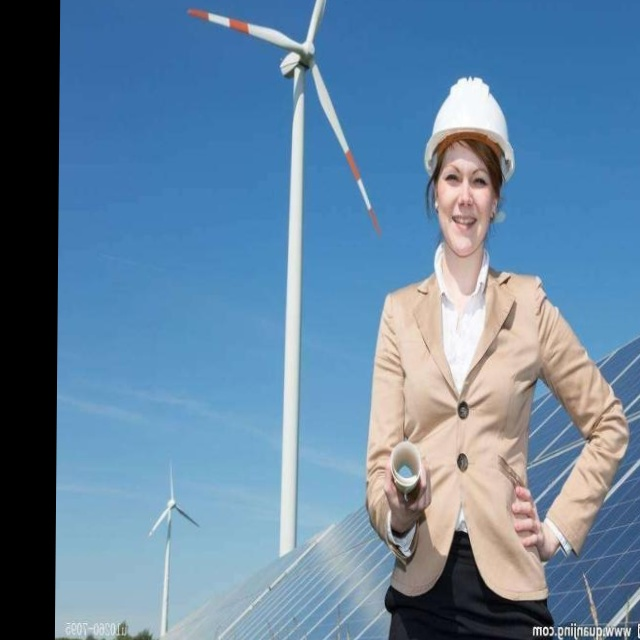Con_Casco: (422, 76, 516, 240)
Sin_Chaleco: (390, 272, 545, 576)
